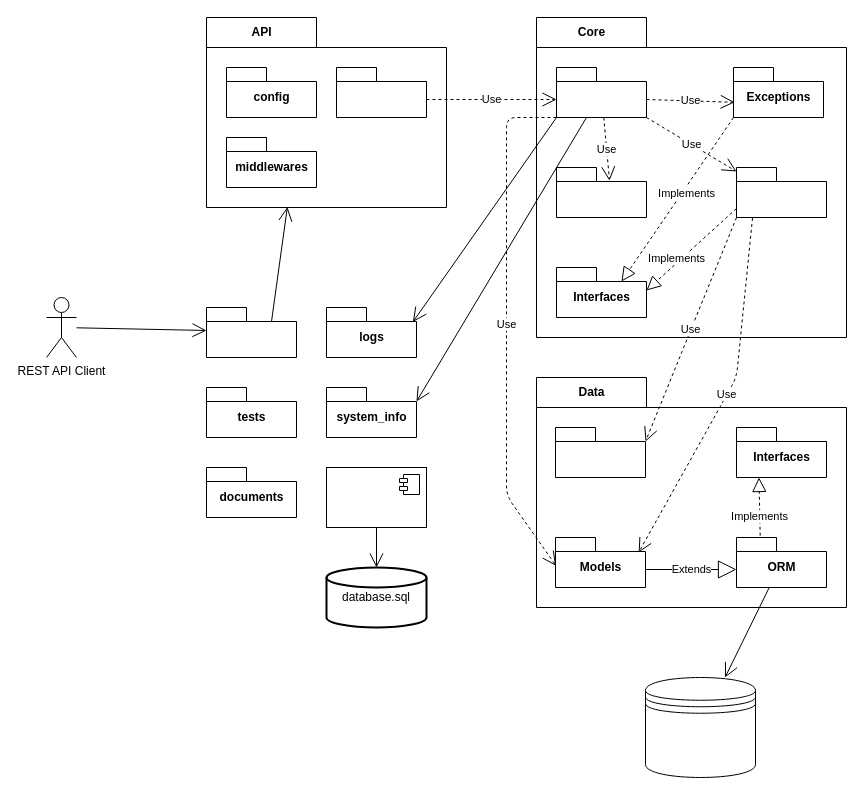
Image size: 864x795. Some labels were removed from this diagram. The centre of each missing label's shape, as x and y in pixels:
Controllers: [601,92]
Database: [700,727]
Enums: [600,452]
Helpers: [601,192]
install.php: [376,497]
public: [251,332]
routes: [381,92]
Services: [781,192]
